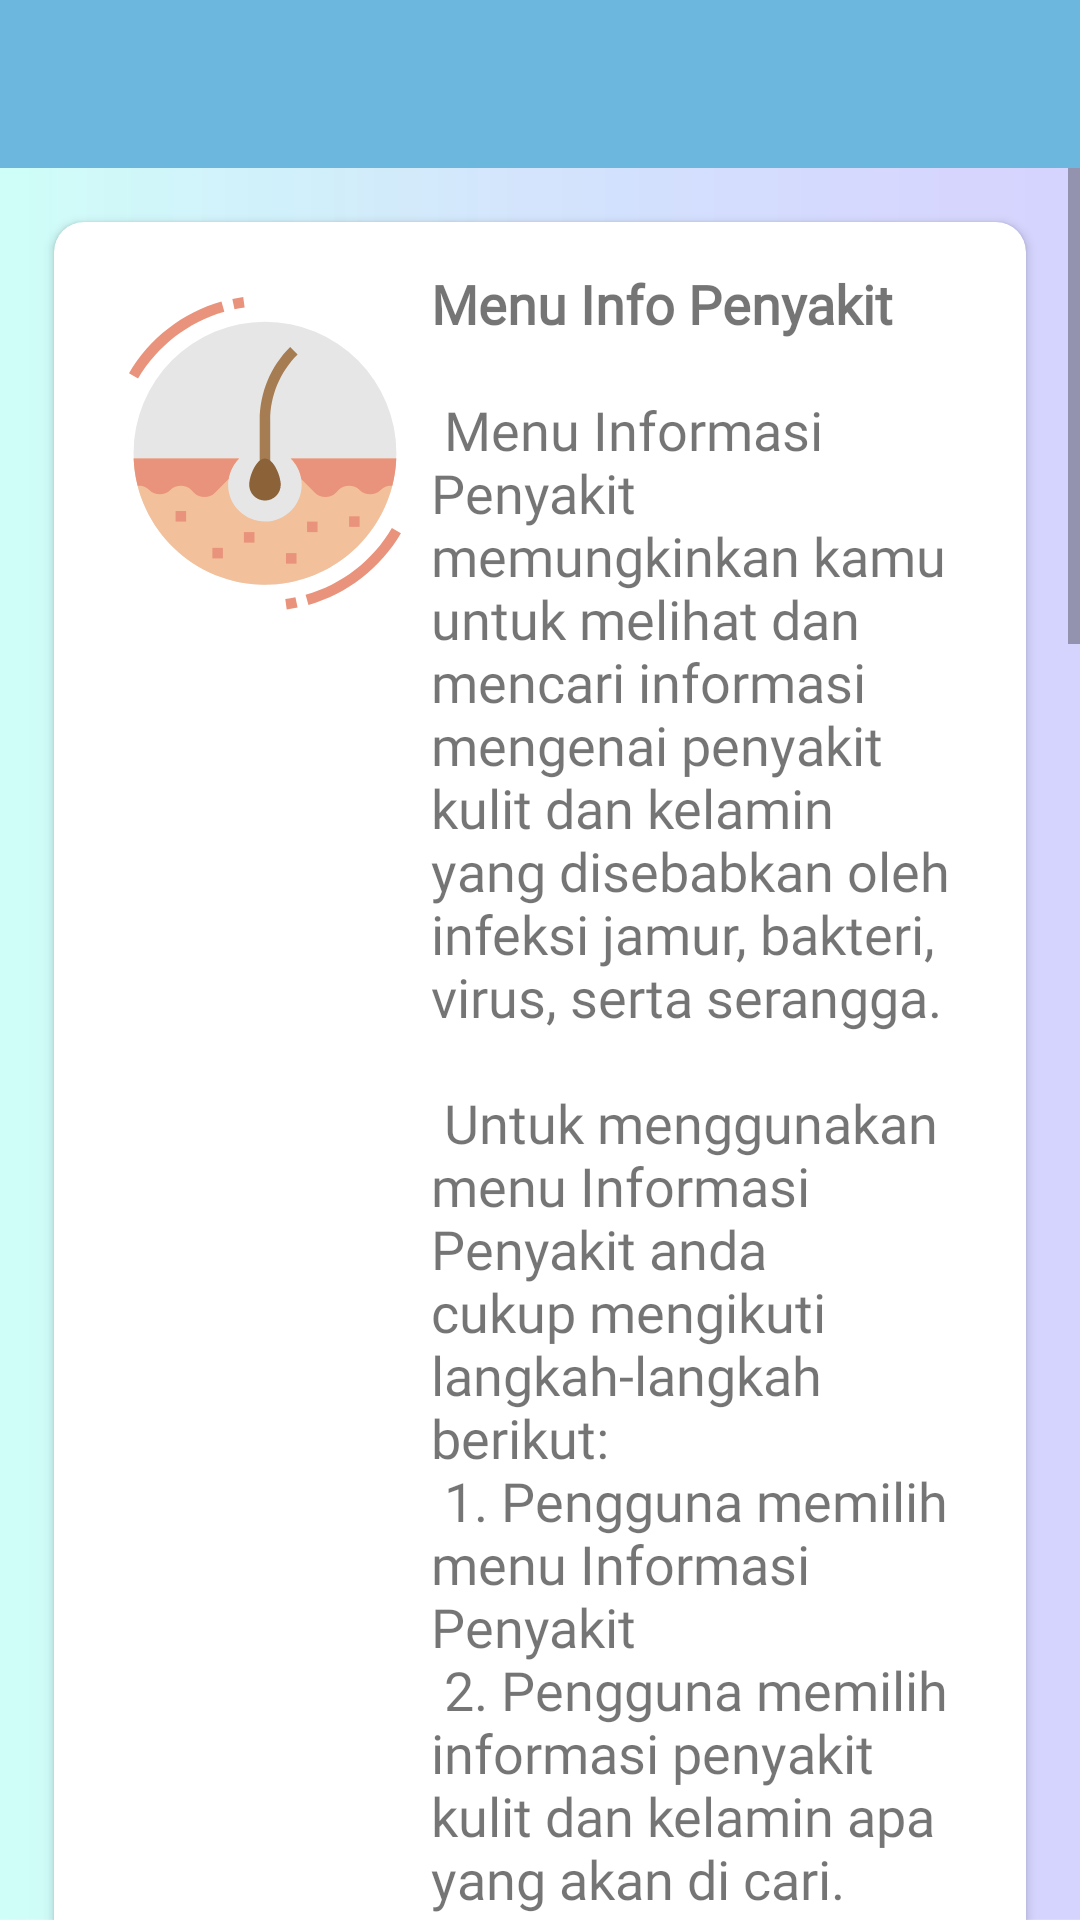

Icon bounding boxes for this 1080px×1920px phone screenshot, format detection(x1, y1, x2, y2):
skin: detection(129, 297, 401, 610)
